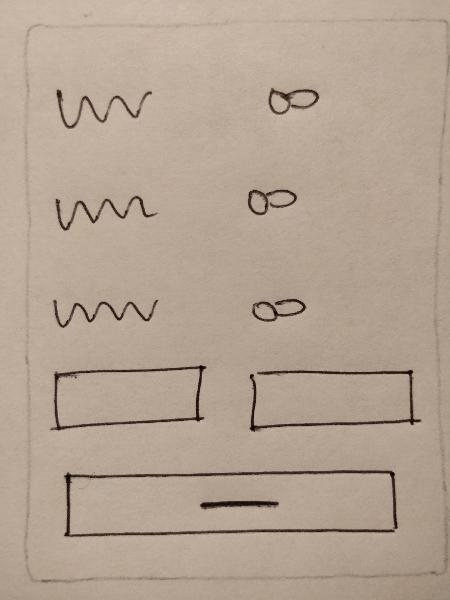button: (51, 462, 414, 540)
switch: (230, 276, 319, 334), (251, 72, 337, 127), (234, 174, 309, 224)
text: (45, 75, 161, 132), (45, 184, 163, 236), (43, 285, 168, 334)
text_input: (243, 359, 426, 442), (45, 357, 215, 445)
